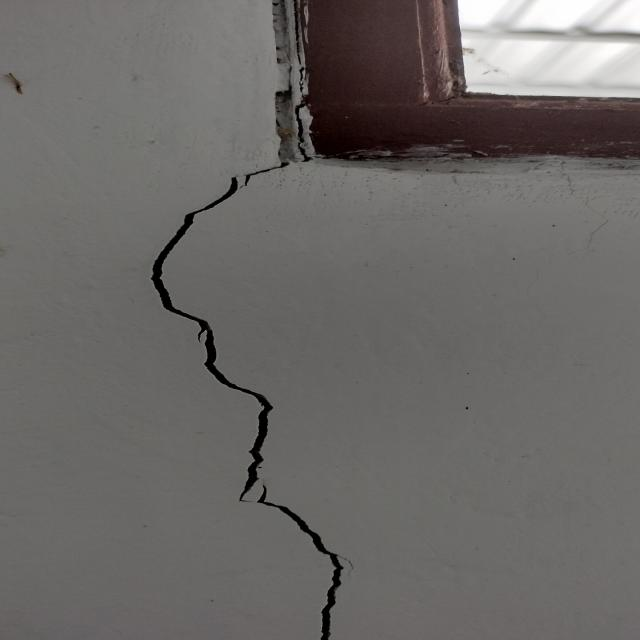Crack: (143, 165, 362, 639)
